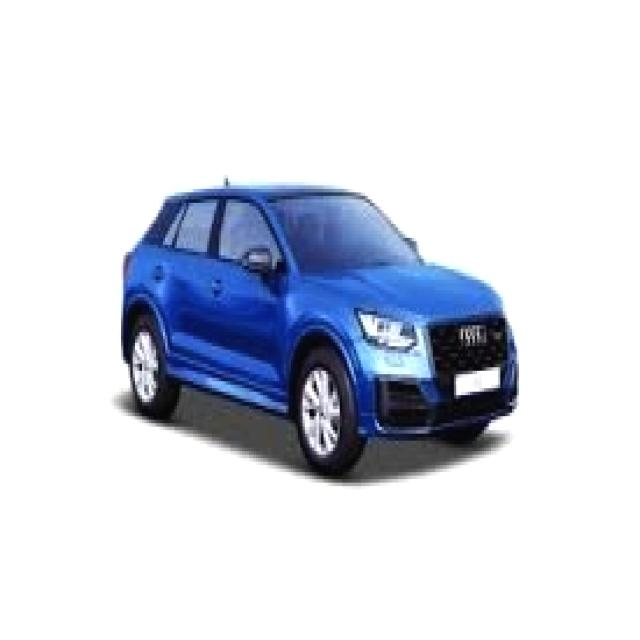blue: (115, 182, 519, 446)
